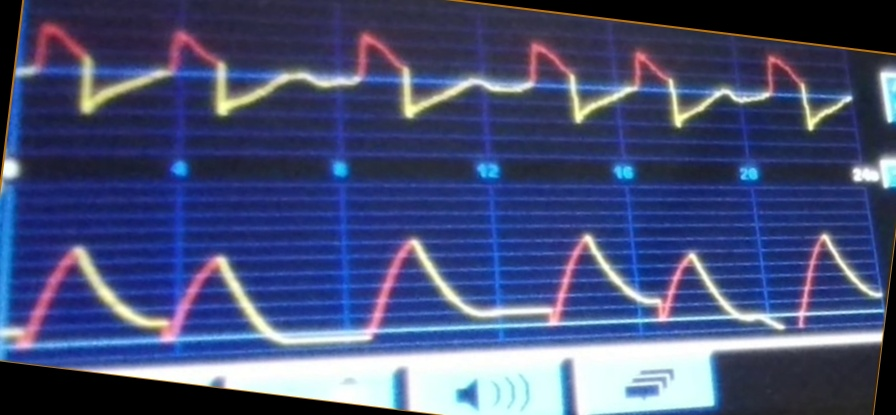Ineffective_effort Flow: (22, 17, 850, 132)
Ineffective_effort Volume: (9, 226, 876, 347)
